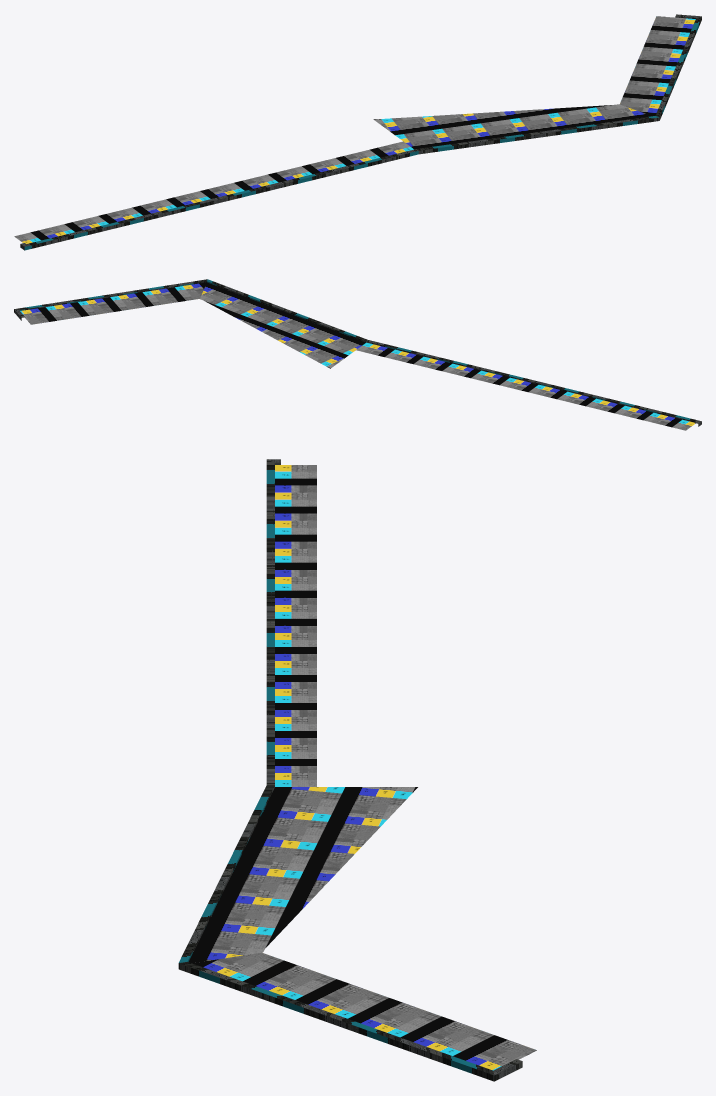
The model's file is chinatown_sidewalk_2.fbx.
The picture shows the model from 3 angles, top to bottom: view 1: azimuth 30°, elevation 25°; view 2: azimuth 150°, elevation 25°; view 3: azimuth 270°, elevation 25°; orthographic projection. The views are drawn at different scales.
Visible parts, largest first — view 1: chinatown_curb_2, curb_tiles_1; view 2: chinatown_curb_2, curb_tiles_1; view 3: chinatown_curb_2, curb_tiles_1.
Part boxes in pixels (x1,y1,x2,y2): chinatown_curb_2: (20,14,701,250); curb_tiles_1: (14,141,413,243); chinatown_curb_2: (14,279,701,426); curb_tiles_1: (356,342,694,430); chinatown_curb_2: (178,459,536,1081); curb_tiles_1: (275,465,316,786).
Size of the model in its own units: 3184 by 15.68 by 784.
